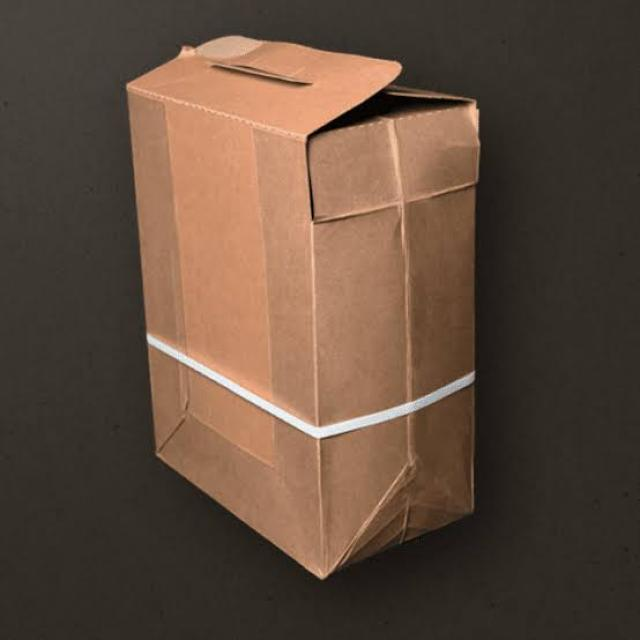cardboard: (97, 26, 499, 590)
